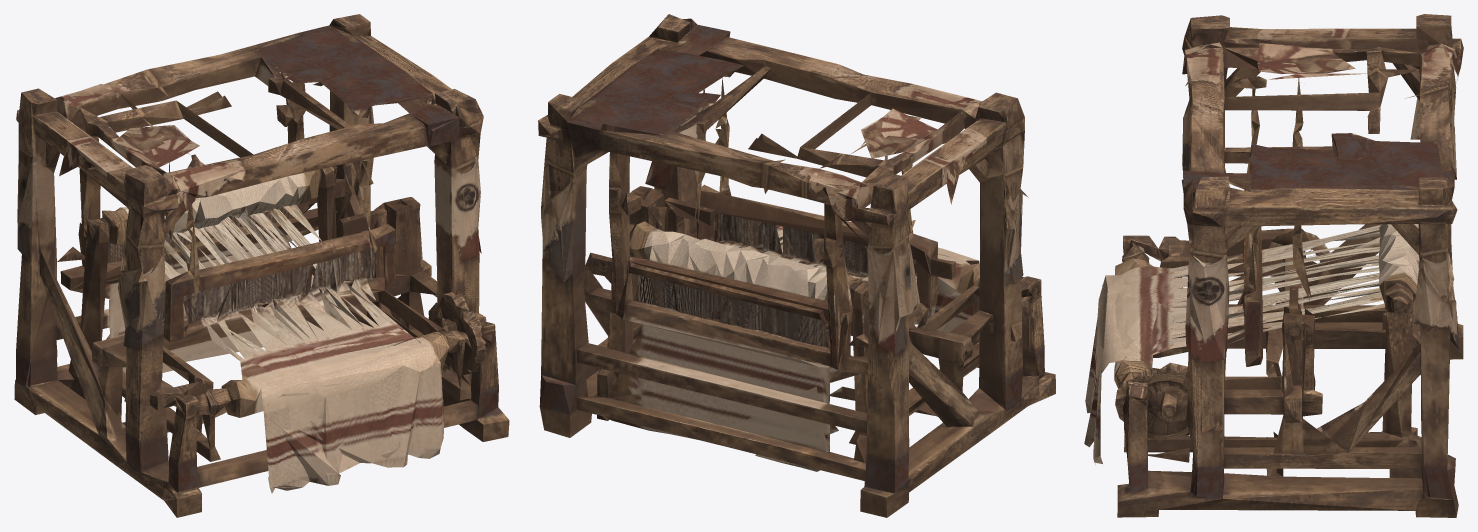
The model's file is towel-loom.glb.
3 views of the same model, side by side, from view 1: azimuth 30°, elevation 25°; view 2: azimuth 150°, elevation 25°; view 3: azimuth 270°, elevation 25° (orthographic). The views are drawn at different scales.
Parts seen in each view (by area): view 1: output_unwrapped; view 2: output_unwrapped; view 3: output_unwrapped.
Part boxes in pixels (x1=…): output_unwrapped: x1=14, y1=14, x2=509, y2=517; output_unwrapped: x1=538, y1=14, x2=1055, y2=517; output_unwrapped: x1=1084, y1=14, x2=1463, y2=517.
Bounding box in the file's own units: 2.15 × 1.8 × 1.87.
1 material, 1 textured.
